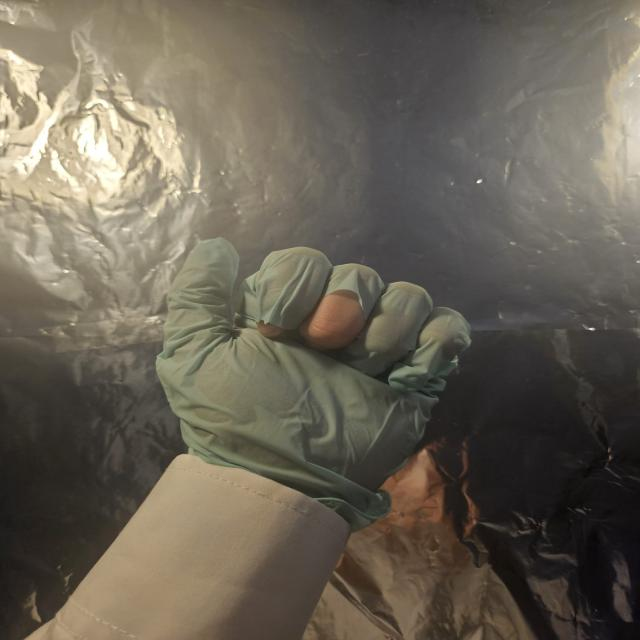gloves_damaged: (152, 237, 473, 532)
